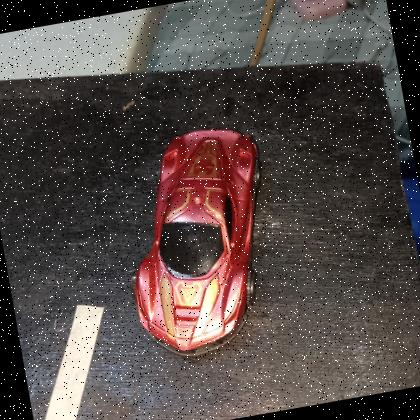Car: (135, 130, 260, 354)
